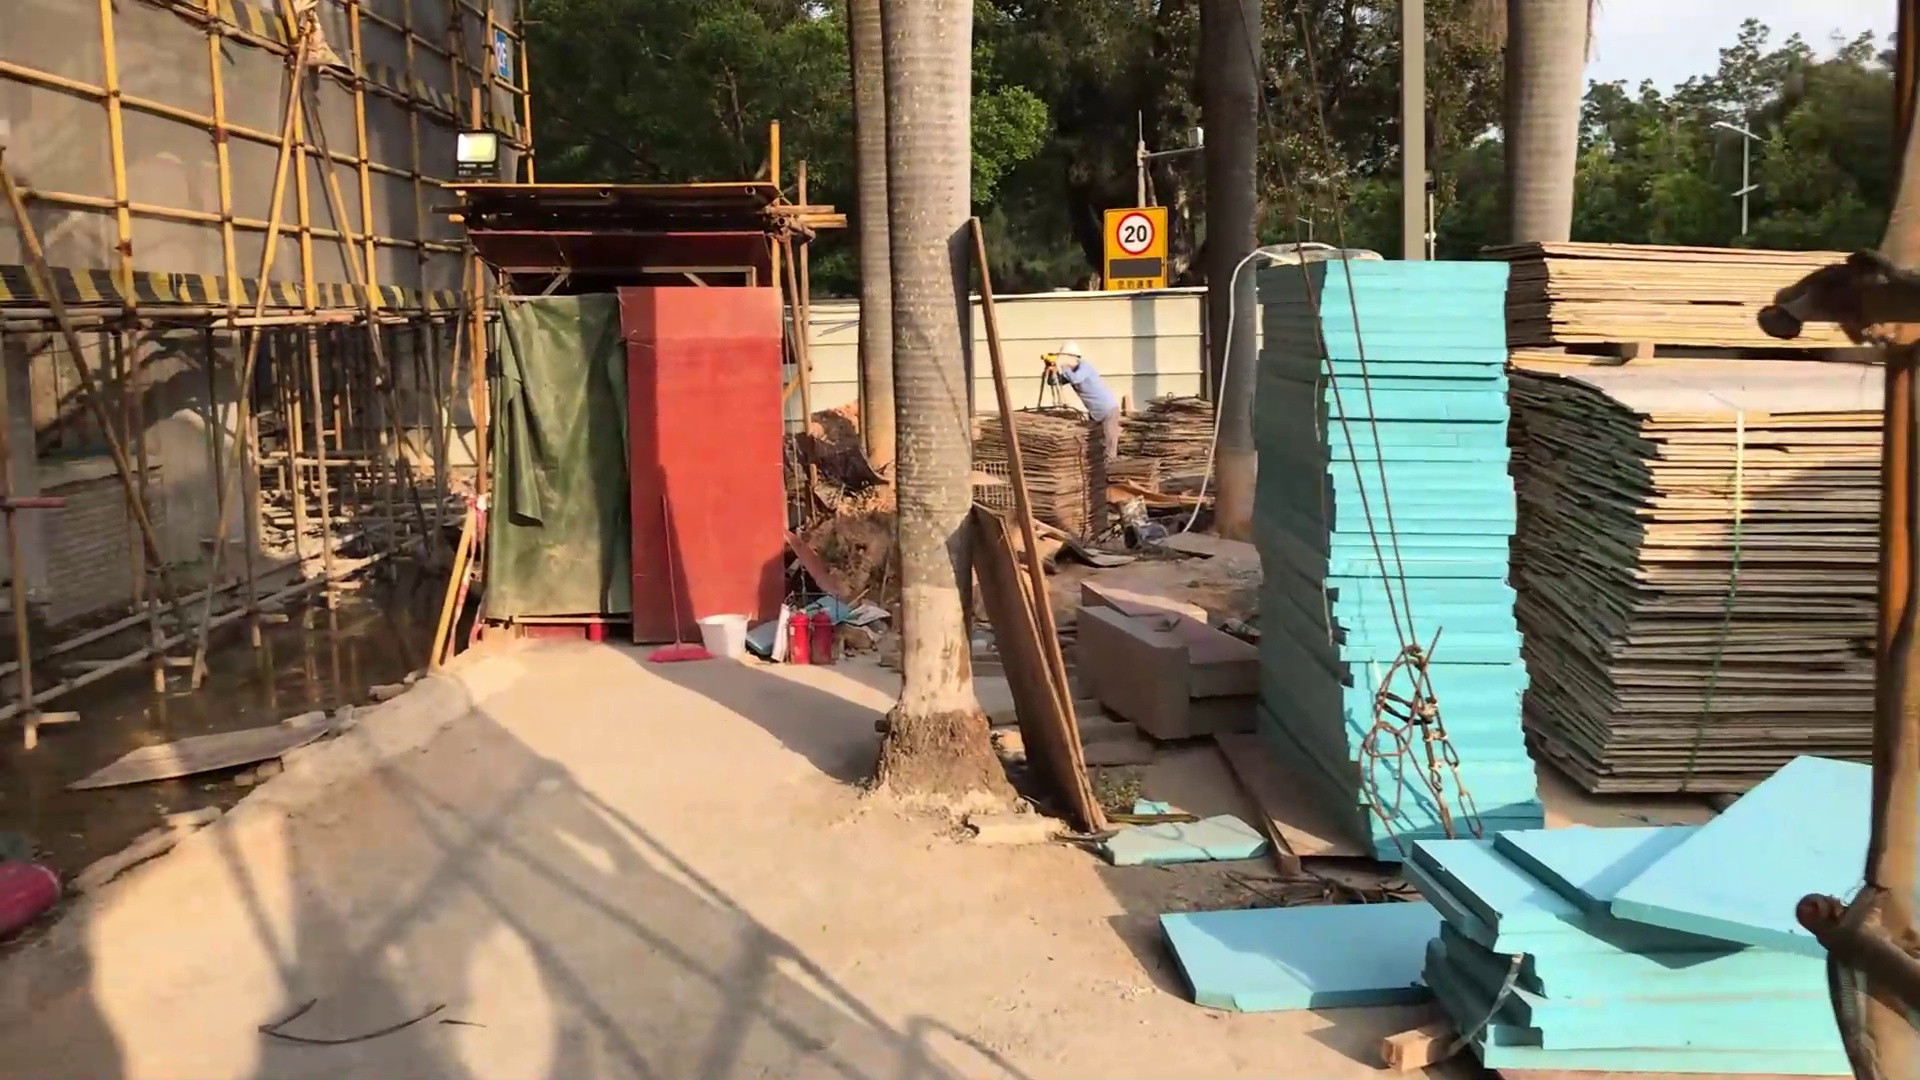board: (1509, 248, 1891, 795)
helmet: (1053, 336, 1085, 362)
person: (1030, 334, 1124, 467)
slogan: (1100, 208, 1166, 292)
